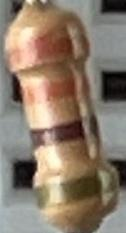Brown: (31, 116, 100, 147)
Orange: (5, 29, 88, 65), (21, 75, 88, 104)
Side-Gold: (35, 166, 119, 212)
